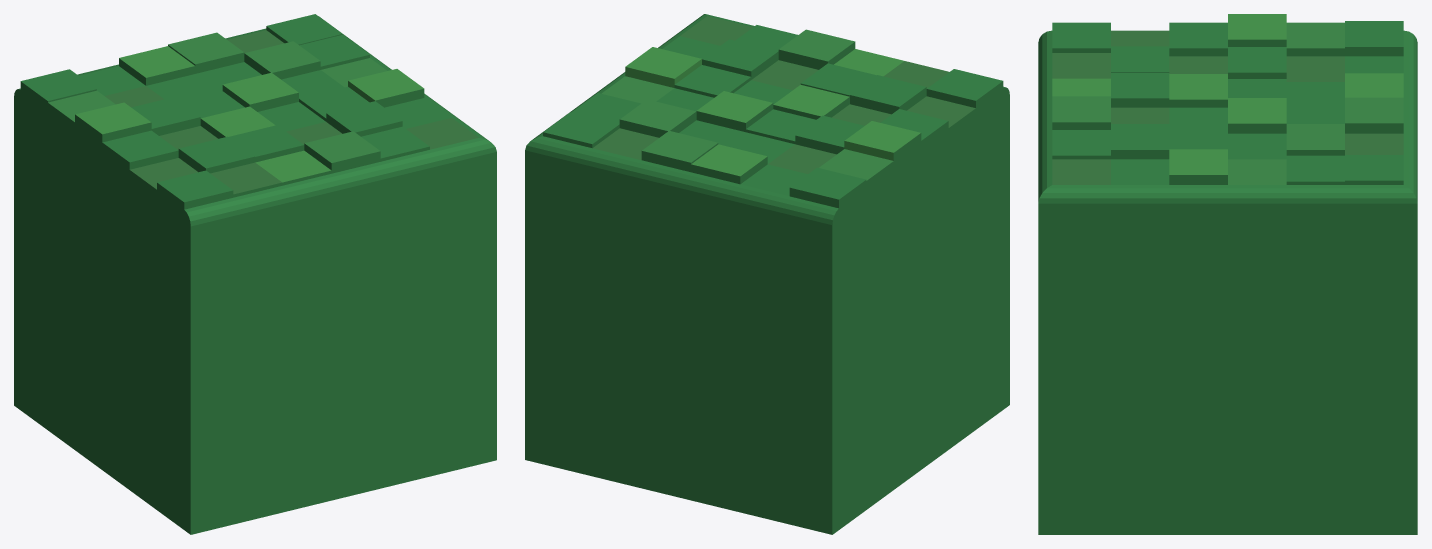
Rendered from three_bev.glb.
The picture shows the model from 3 angles, left to right: view 1: azimuth 30°, elevation 25°; view 2: azimuth 150°, elevation 25°; view 3: azimuth 270°, elevation 25°; orthographic projection. The views are drawn at different scales.
Parts seen in each view (by area): view 1: three_bev; view 2: three_bev; view 3: three_bev.
Part boxes in pixels (x1=…): three_bev: x1=14, y1=14, x2=496, y2=534; three_bev: x1=525, y1=14, x2=1009, y2=534; three_bev: x1=1038, y1=14, x2=1417, y2=534.
Size of the model in its own units: 1 by 1.05 by 1.
